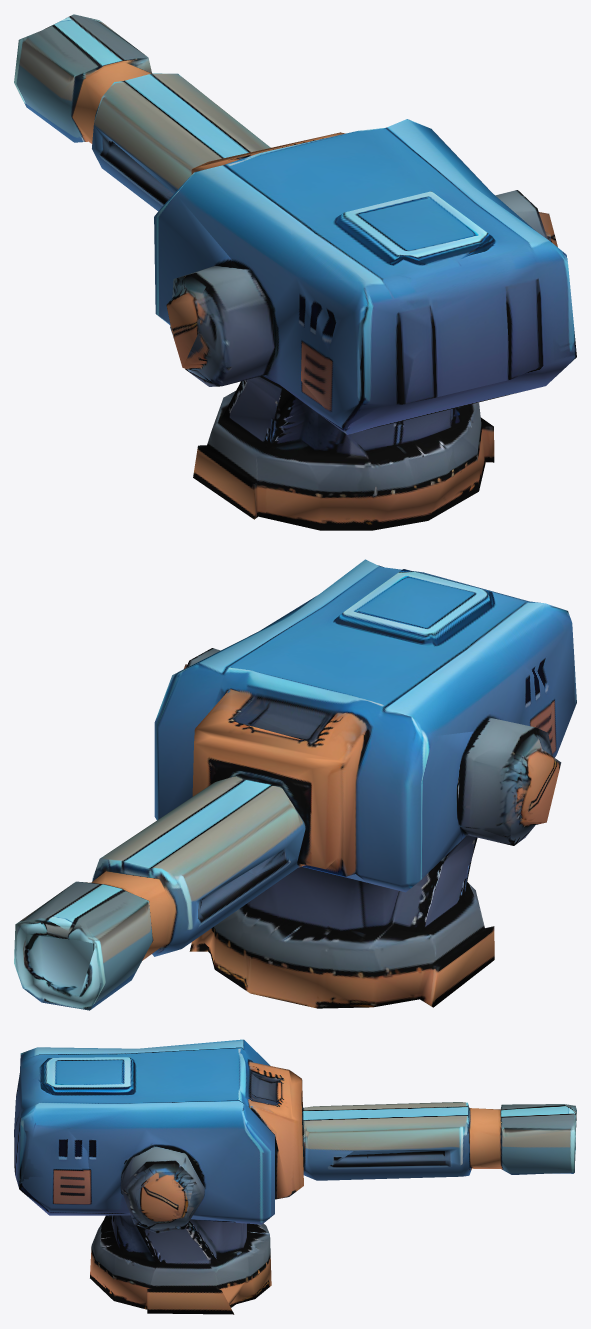
Rendered from pistola+de+torrerta+.obj.
The picture shows the model from 3 angles, top to bottom: view 1: azimuth 30°, elevation 25°; view 2: azimuth 150°, elevation 25°; view 3: azimuth 270°, elevation 25°; orthographic projection. The views are drawn at different scales.
Visible parts, largest first — view 1: tripo_node_9c2dd811-24e3-4f1b-abf8-c4eeb86f2c7e; view 2: tripo_node_9c2dd811-24e3-4f1b-abf8-c4eeb86f2c7e; view 3: tripo_node_9c2dd811-24e3-4f1b-abf8-c4eeb86f2c7e.
Boxes of the visible parts, x1,y1,x2,y2 form: tripo_node_9c2dd811-24e3-4f1b-abf8-c4eeb86f2c7e: (14, 14, 576, 530); tripo_node_9c2dd811-24e3-4f1b-abf8-c4eeb86f2c7e: (14, 559, 576, 1010); tripo_node_9c2dd811-24e3-4f1b-abf8-c4eeb86f2c7e: (14, 1039, 576, 1314).
Size of the model in its own units: 0.5059 by 0.3993 by 1.
Materials: 1 (1 with a texture image).
